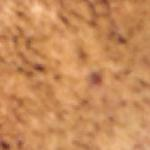alive: (18, 19, 137, 137)
